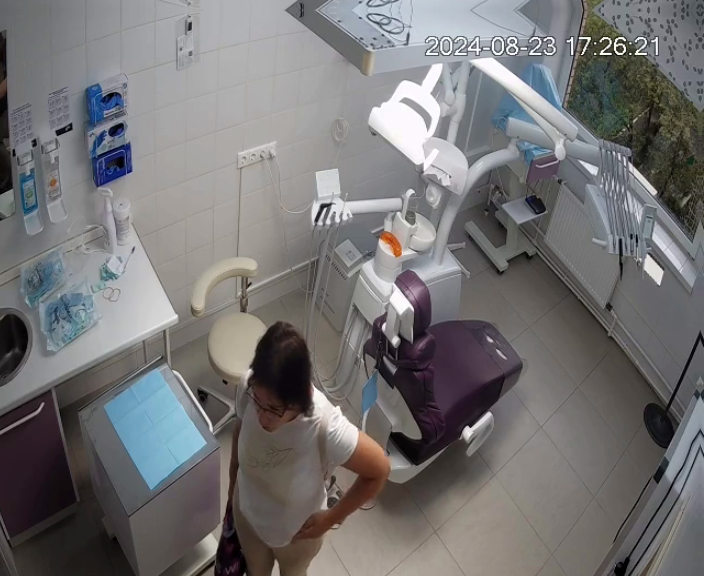Empty: (343, 271, 529, 484)
